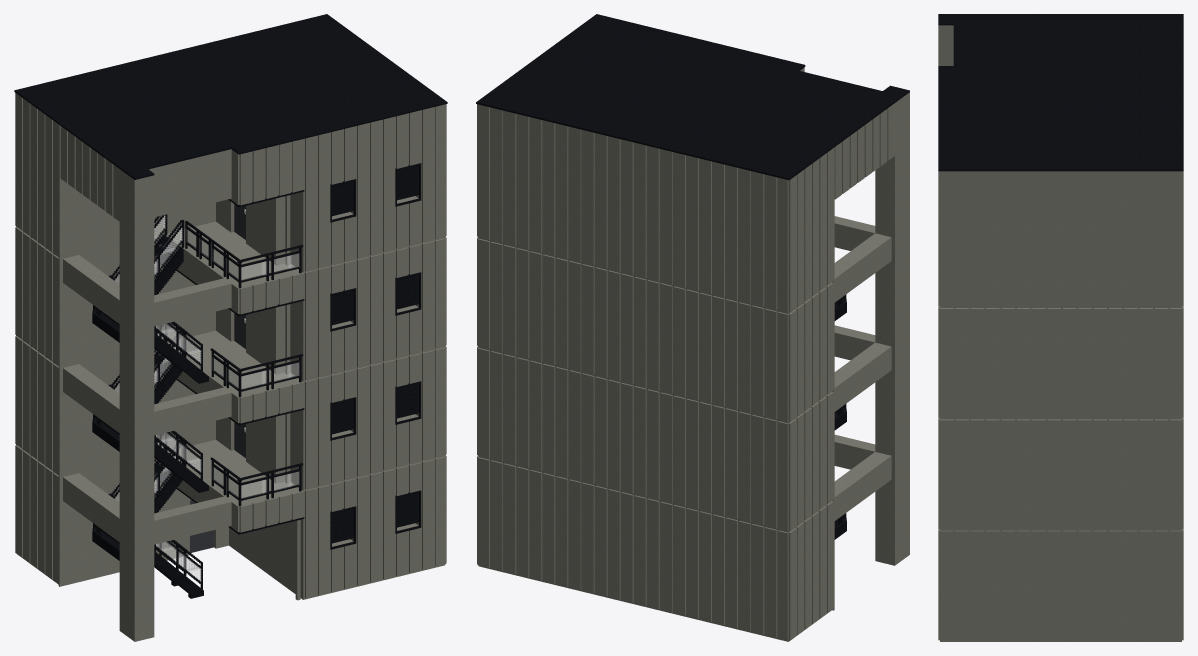
The model's file is villa_4floor.obj.
The picture shows the model from 3 angles, left to right: view 1: azimuth 30°, elevation 25°; view 2: azimuth 150°, elevation 25°; view 3: azimuth 270°, elevation 25°; orthographic projection. The views are drawn at different scales.
Visible parts, largest first — view 1: minecraft_concrete_silver_-1, minecraft_concrete_black_-1, minecraft_glass_white_-1, minecraft_concrete_gray_-1; view 2: minecraft_concrete_silver_-1, minecraft_concrete_black_-1; view 3: minecraft_concrete_silver_-1, minecraft_concrete_black_-1.
Boxes of the visible parts, x1=… form: minecraft_concrete_silver_-1: x1=15, y1=93, x2=446, y2=641; minecraft_concrete_black_-1: x1=14, y1=14, x2=447, y2=598; minecraft_glass_white_-1: x1=115, y1=215, x2=299, y2=581; minecraft_concrete_gray_-1: x1=154, y1=204, x2=245, y2=552; minecraft_concrete_silver_-1: x1=477, y1=67, x2=909, y2=641; minecraft_concrete_black_-1: x1=476, y1=14, x2=909, y2=539; minecraft_concrete_silver_-1: x1=938, y1=25, x2=1183, y2=641; minecraft_concrete_black_-1: x1=938, y1=14, x2=1183, y2=171.
Size of the model in its own units: 12 by 17 by 8.
